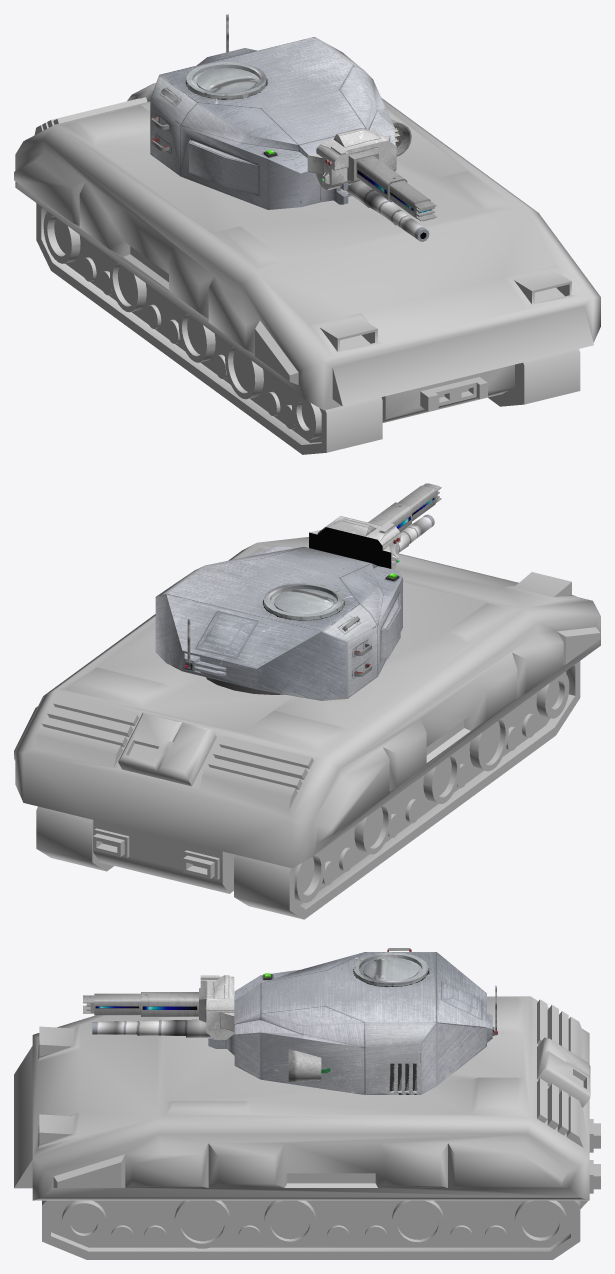
Rendered from AALSP_MBT.fbx.
3 renders of one model, top to bottom at view 1: azimuth 30°, elevation 25°; view 2: azimuth 150°, elevation 25°; view 3: azimuth 270°, elevation 25°, orthographic. The views are drawn at different scales.
Parts seen in each view (by area): view 1: AAL_MBTbase, AAL_MBTTurret, Plasma_Cannon; view 2: AAL_MBTbase, AAL_MBTTurret, Plasma_Cannon; view 3: AAL_MBTbase, AAL_MBTTurret, Plasma_Cannon.
Boxes of the visible parts, <box> form: AAL_MBTbase: <box>14,83,600,454</box>; AAL_MBTTurret: <box>150,14,429,241</box>; Plasma_Cannon: <box>307,128,436,221</box>; AAL_MBTbase: <box>14,537,600,919</box>; AAL_MBTTurret: <box>155,514,434,700</box>; Plasma_Cannon: <box>309,483,441,569</box>; AAL_MBTbase: <box>14,996,600,1259</box>; AAL_MBTTurret: <box>92,948,497,1094</box>; Plasma_Cannon: <box>83,975,234,1039</box>.
Bounding box in the file's own units: 1.82 × 1.33 × 3.14.
